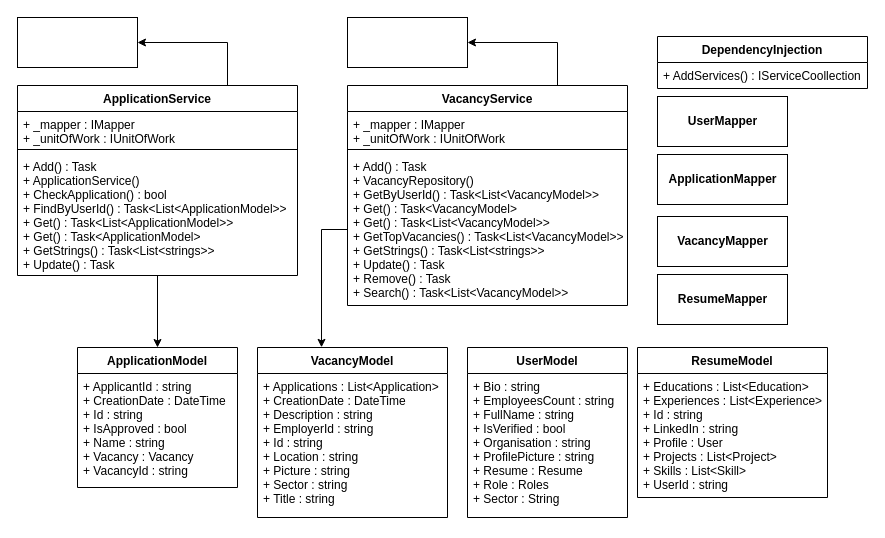
The diagram is 885 pixels wide and 538 high, and some of its shapes have lost their labels. The centre of each missing label's shape, as x and y in pixels:
«interface» IApplicationService: point (77, 42)
«interface» IVacancyService: point (407, 42)
